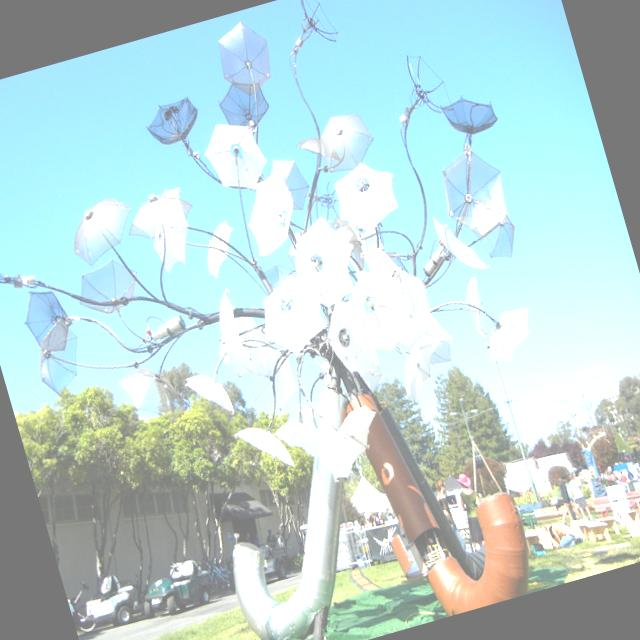Vehicle: (134, 556, 214, 619)
